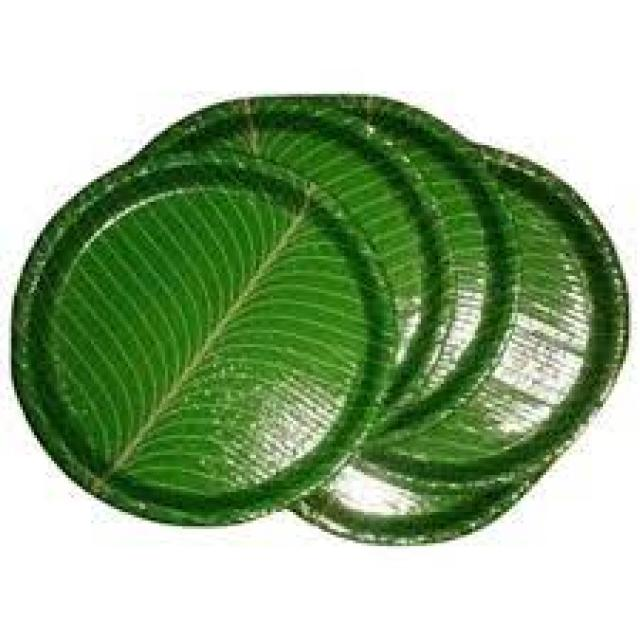Paper -Biodegradable-: (10, 92, 628, 545)
